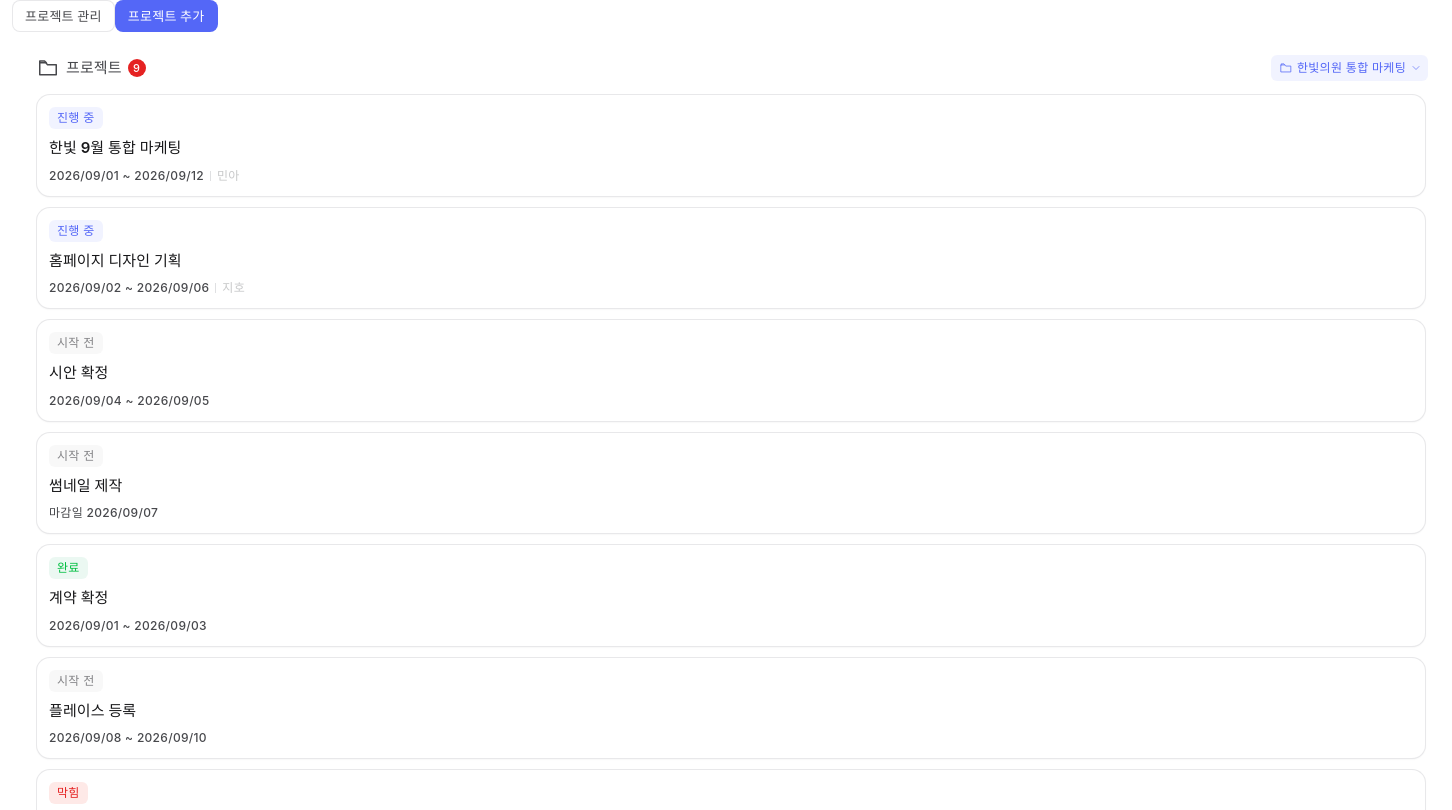
프로젝트 › 우 레일 미터는 체크리스트가 없으면 「—」다
Step 1. Click the button "시작 전 썸네일 제작 마감일 2026/09/07" → (76, 456), box [36,432,1426,534]
(page scrolled)
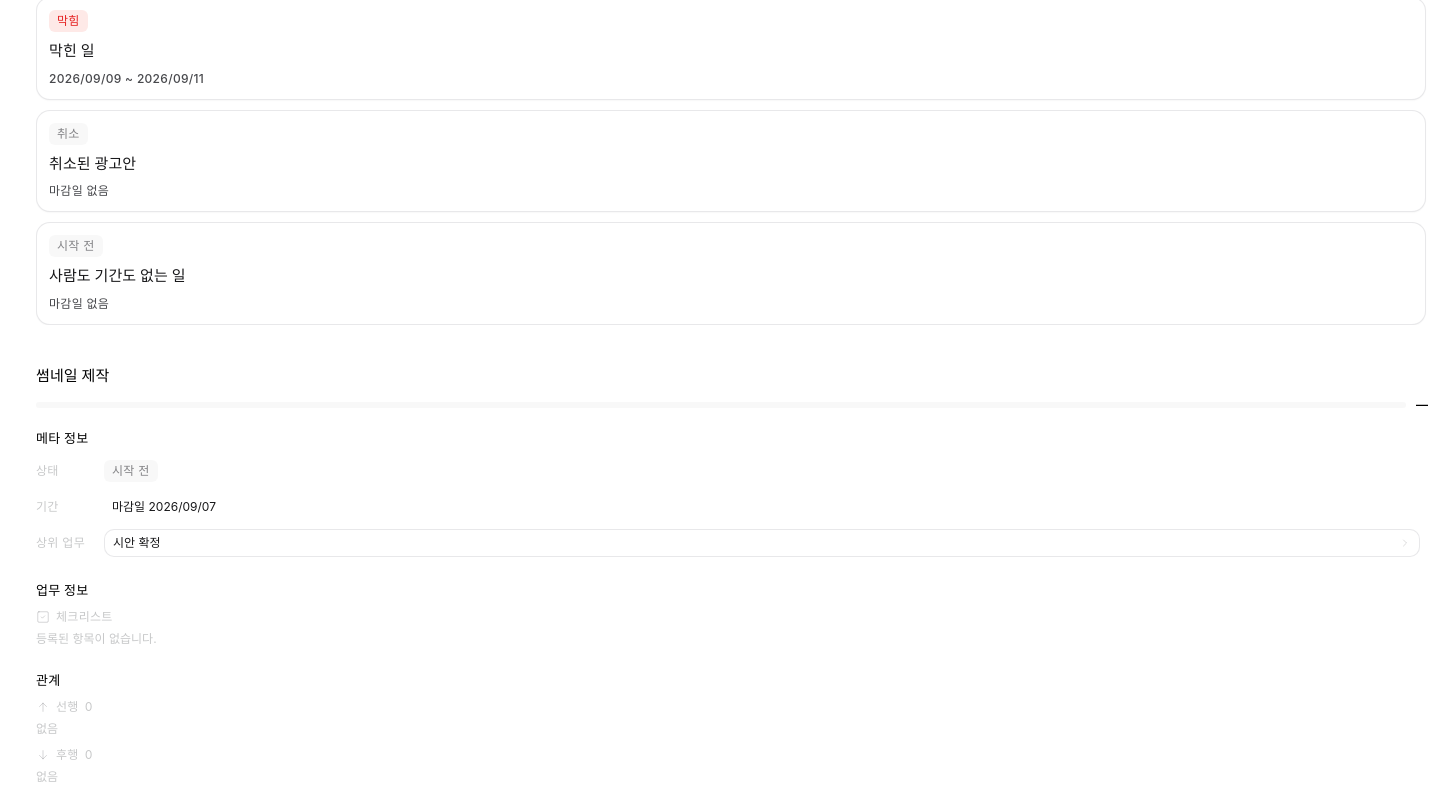
Expected: the text "—" is shown, [1416,397,1428,413]
